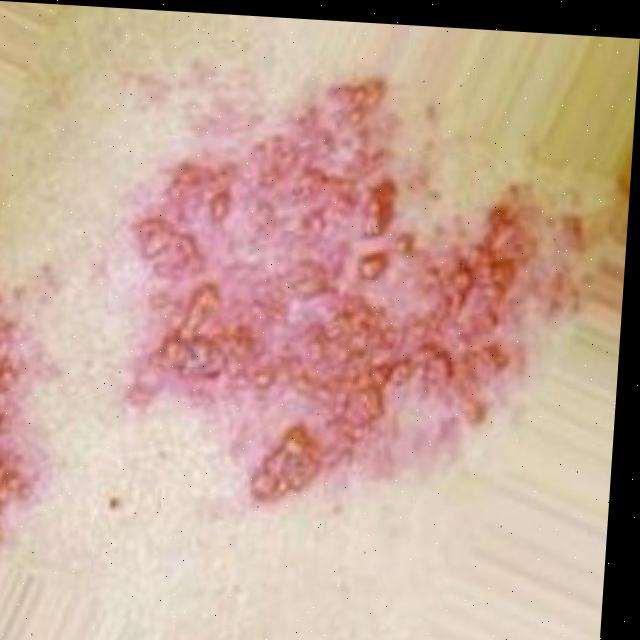Shingles: (127, 72, 599, 530), (0, 290, 49, 542)
